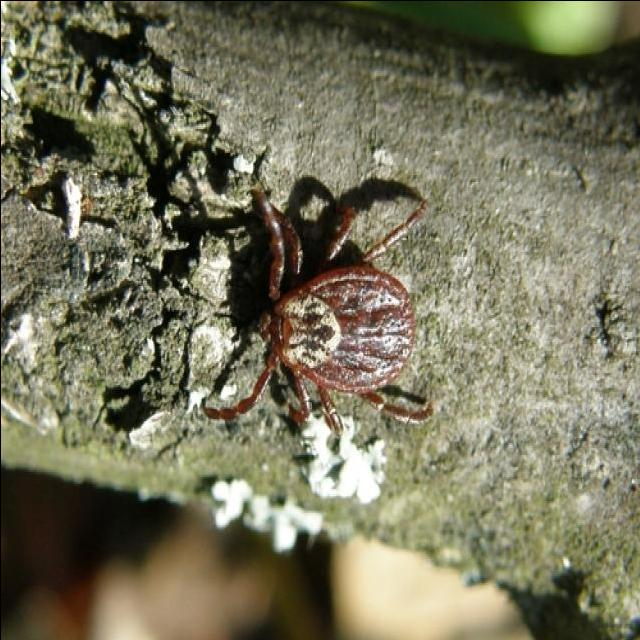Dermacentor Reticulatus-F: (201, 188, 434, 433)
